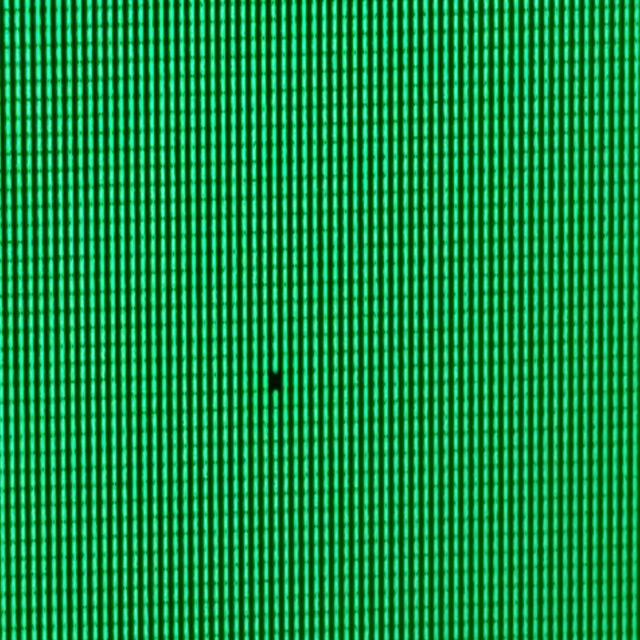Dead pixel: (268, 369, 282, 393)
